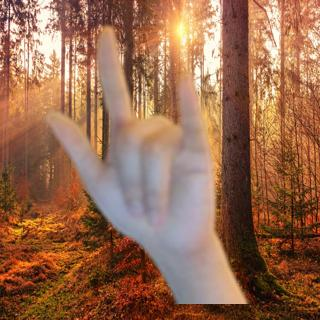ILY: (41, 22, 226, 255)
